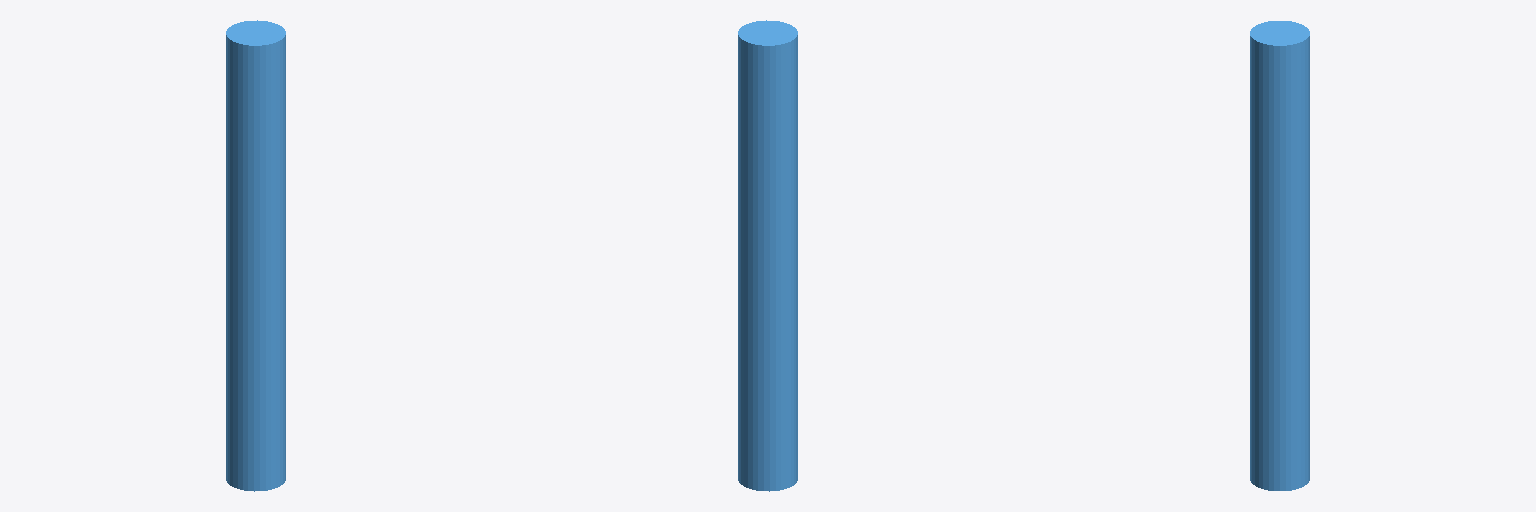
URDF robot description (cylinder_obstacle):
<?xml version="1.0"?>
<robot name="cylinder_obstacle">
  <link name="base_link">
    <visual>
      <origin xyz="0 0 0" rpy="0 0 0"/>
      <geometry>
        <cylinder radius="0.55" length="9.0"/>
      </geometry>
      <material name="obstacle_blue">
        <color rgba="0.43 0.75 1.0 1.0"/>
      </material>
    </visual>
    <collision>
      <origin xyz="0 0 0" rpy="0 0 0"/>
      <geometry>
        <cylinder radius="0.55" length="9.0"/>
      </geometry>
    </collision>
    <inertial>
      <origin xyz="0 0 0" rpy="0 0 0"/>
      <mass value="1.0"/>
      <inertia ixx="1.0" ixy="0.0" ixz="0.0" iyy="1.0" iyz="0.0" izz="1.0"/>
    </inertial>
  </link>
</robot>

--- Render facts (derived) ---
3 views of the same robot in one strip: view 1: azimuth 30°, elevation 25°; view 2: azimuth 150°, elevation 25°; view 3: azimuth 270°, elevation 25° (orthographic).
Robot: cylinder_obstacle — 1 links, 0 joints (none); root link base_link; default pose: all joints at 0.
Visible links, largest first — view 1: base_link; view 2: base_link; view 3: base_link.
Link boxes in pixels (box(x1,y1,x2,y2)): base_link: box(226, 20, 285, 491); base_link: box(738, 20, 797, 491); base_link: box(1250, 21, 1309, 490).
Bounding box of the posed robot: 1.1 × 1.1 × 9 m (x, y, z).
Geometry: primitives only (box / cylinder / sphere), no mesh files.
